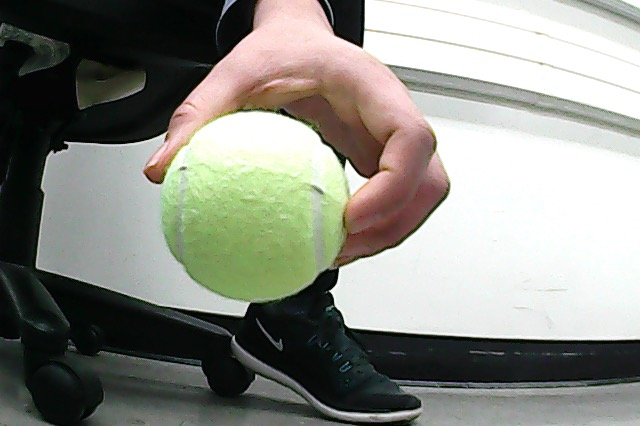ball: (162, 112, 349, 302)
